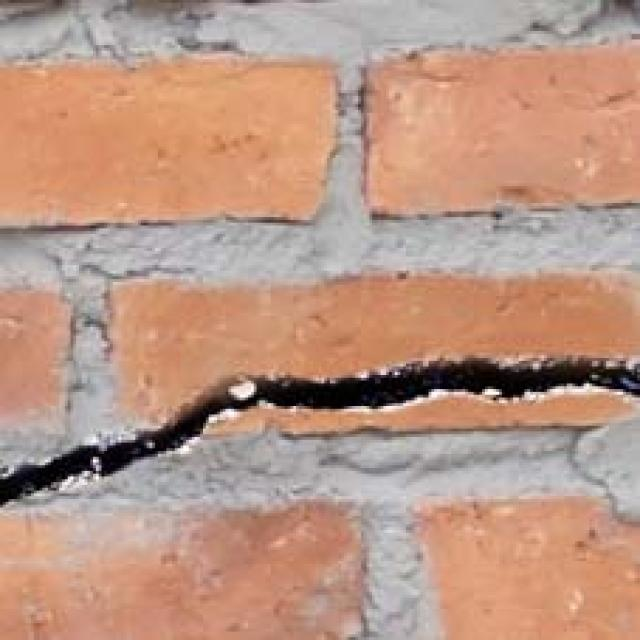Crack: (0, 327, 640, 570)
